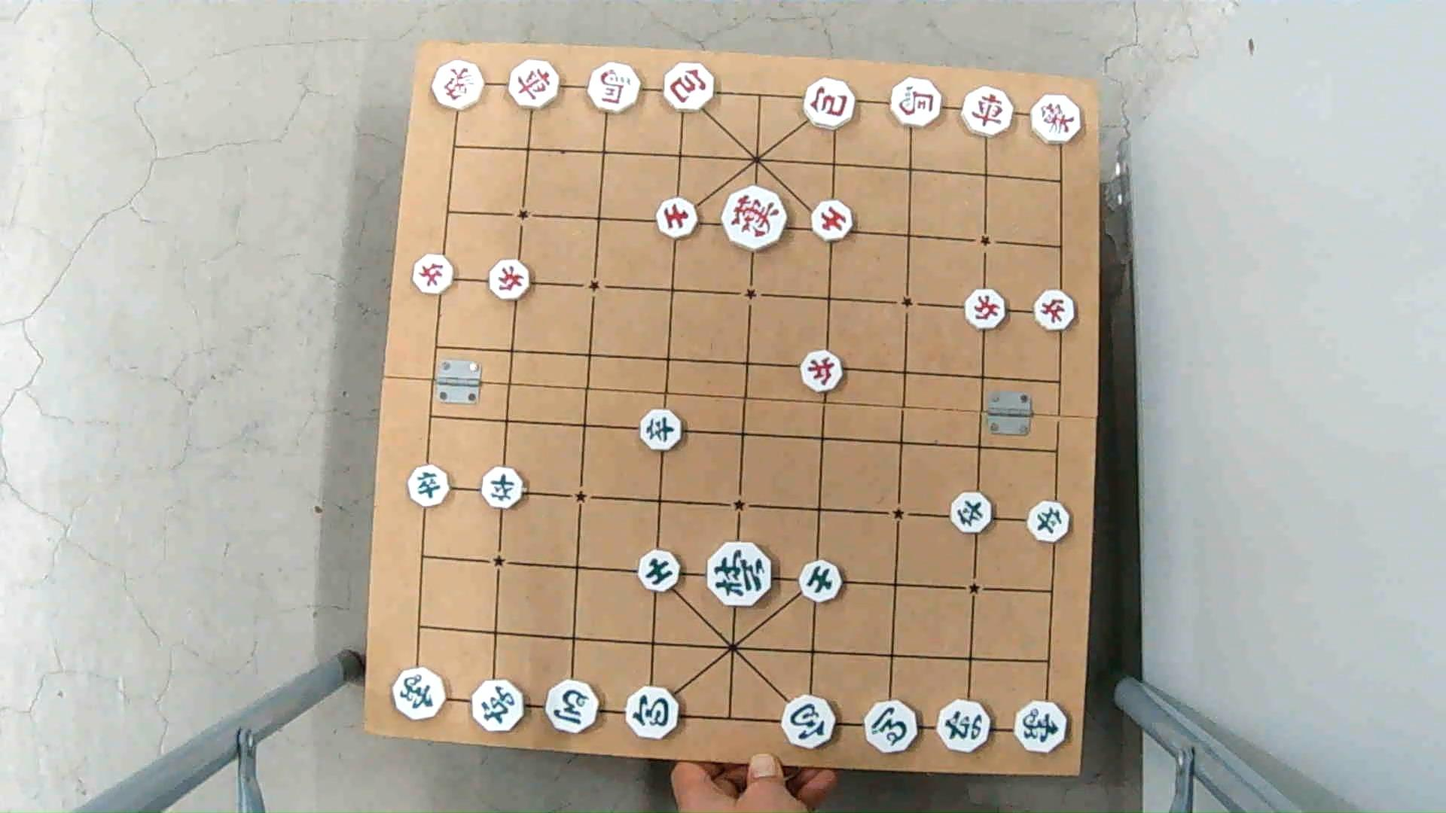cha_green: (472, 682, 529, 731), (937, 702, 994, 751)
cha_red: (961, 90, 1018, 137), (507, 62, 563, 108)
jol_green: (637, 413, 685, 451), (405, 467, 450, 506), (948, 492, 993, 531), (480, 470, 526, 507), (1027, 504, 1071, 542)
jol_red: (487, 261, 534, 299), (799, 352, 846, 389), (1030, 292, 1075, 329), (410, 256, 456, 292), (966, 291, 1007, 329)
ma_green: (862, 703, 918, 751), (543, 684, 599, 732)
ma_red: (586, 63, 644, 108), (891, 77, 947, 123)
po_green: (779, 697, 837, 747), (625, 688, 682, 738)
po_red: (799, 81, 856, 126), (664, 65, 719, 111)
sa_green: (798, 560, 846, 601), (636, 550, 684, 589)
sa_red: (807, 201, 854, 241), (653, 199, 700, 236)
sang_green: (391, 668, 448, 717), (1012, 702, 1069, 751)
sang_red: (432, 63, 487, 109), (1027, 96, 1082, 141)
wang_green: (704, 545, 773, 601)
wang_red: (721, 187, 788, 248)
